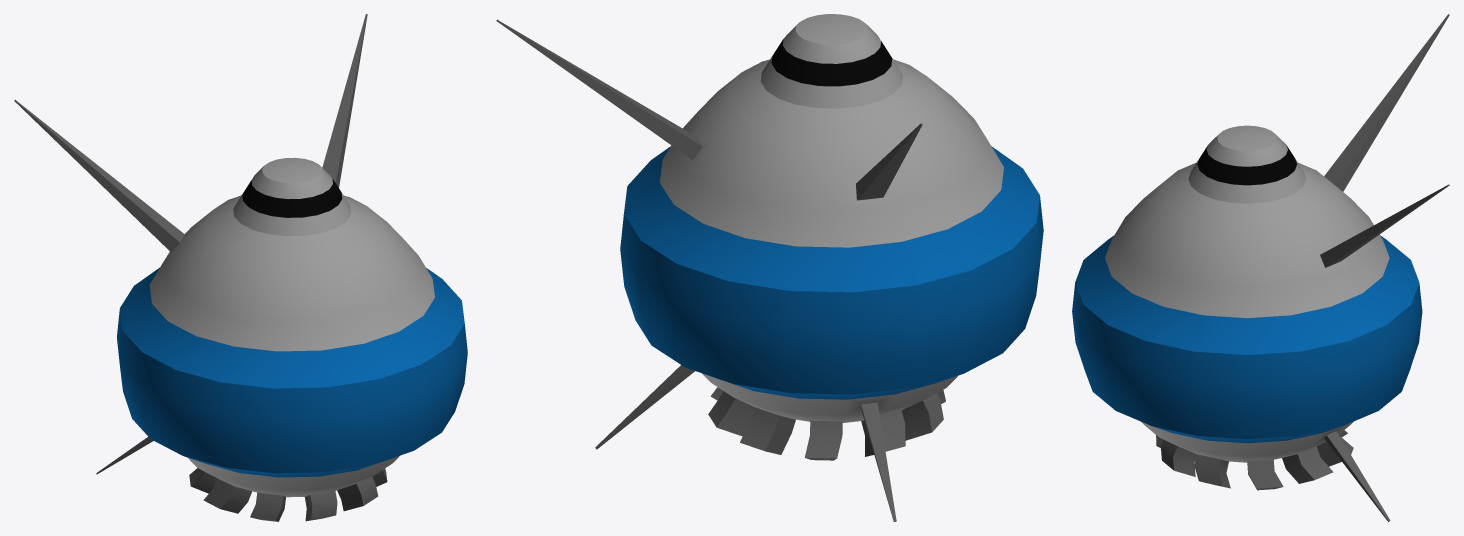
Rendered from Spaceship_Venus.fbx.
3 renders of one model, left to right at view 1: azimuth 30°, elevation 25°; view 2: azimuth 150°, elevation 25°; view 3: azimuth 270°, elevation 25°, orthographic. The views are drawn at different scales.
Visible parts, largest first — view 1: Venus spaceship; view 2: Venus spaceship; view 3: Venus spaceship.
Boxes of the visible parts, <box> form: Venus spaceship: <box>14,14,467,521</box>; Venus spaceship: <box>496,14,1043,521</box>; Venus spaceship: <box>1072,14,1449,521</box>.
Size of the model in its own units: 1203 by 1187 by 1122.
